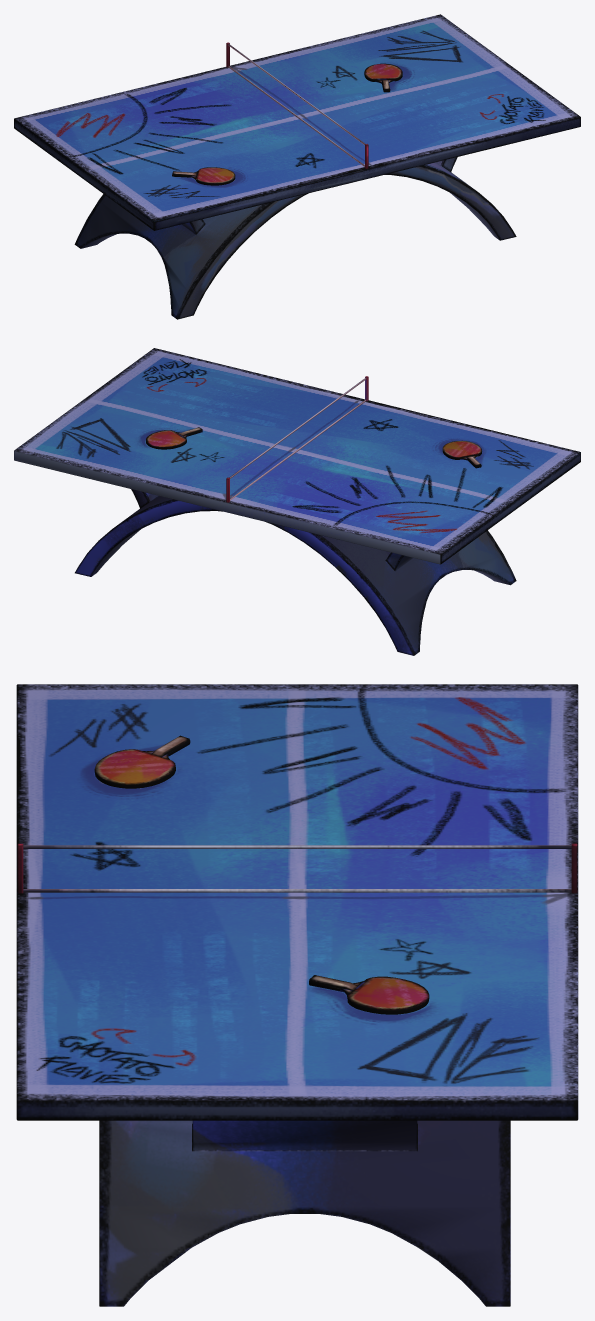
File: table tennis_table.glb
3 views of the same model, one above another, from view 1: azimuth 30°, elevation 25°; view 2: azimuth 150°, elevation 25°; view 3: azimuth 270°, elevation 25° (orthographic). The views are drawn at different scales.
Visible parts, largest first — view 1: TableTennis; view 2: TableTennis; view 3: TableTennis.
Part boxes in pixels (<box>): TableTennis: <box>14,14,580,319</box>; TableTennis: <box>14,348,580,655</box>; TableTennis: <box>16,684,578,1306</box>.
Bounding box in the file's own units: 19.56 × 6.48 × 11.14.
Materials: 1 (1 with a texture image).
